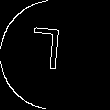L_S: (37, 28, 73, 82)
